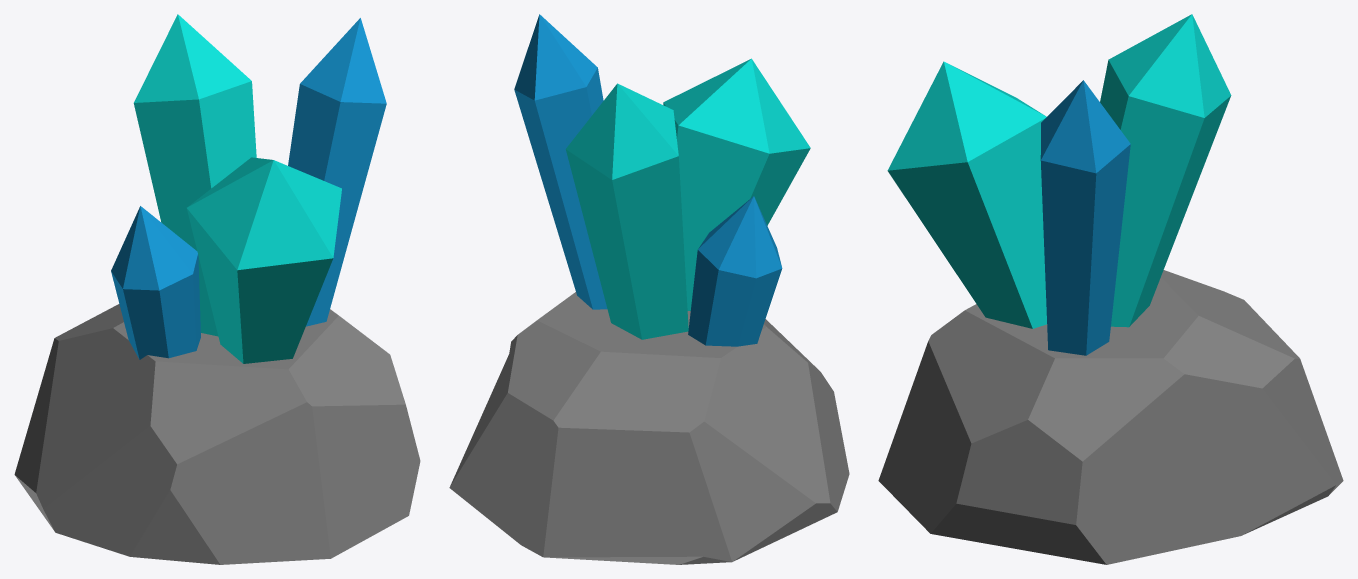
File: MineralNode_12_C.fbx
3 renders of one model, left to right at view 1: azimuth 30°, elevation 25°; view 2: azimuth 150°, elevation 25°; view 3: azimuth 270°, elevation 25°, orthographic. The views are drawn at different scales.
Parts seen in each view (by area): view 1: MineralNode_12_C; view 2: MineralNode_12_C; view 3: MineralNode_12_C.
Part boxes in pixels (x1,y1,x2,y2): MineralNode_12_C: (14, 14, 420, 564); MineralNode_12_C: (449, 14, 849, 564); MineralNode_12_C: (878, 14, 1343, 564).
Size of the model in its own units: 81.16 by 98.79 by 88.32.
